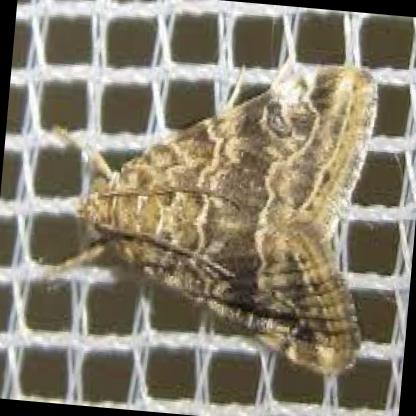Hellula undalis: (35, 20, 381, 388)
